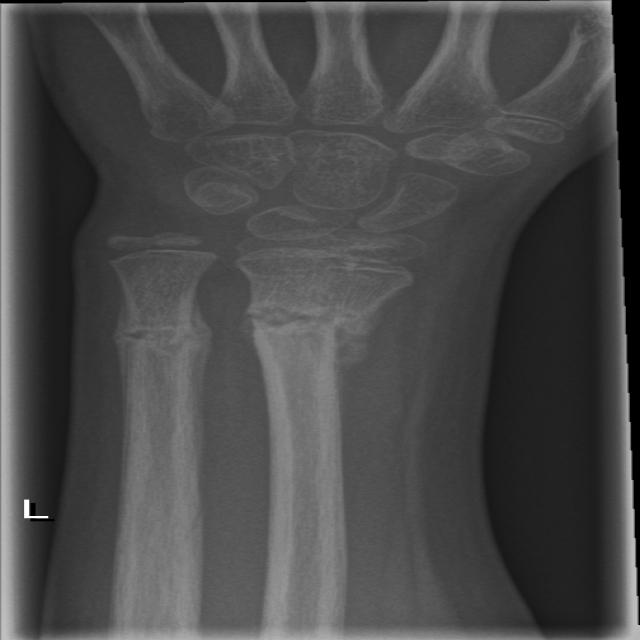radius fracture: (196, 276, 447, 461)
ulna fracture: (86, 293, 243, 462)
